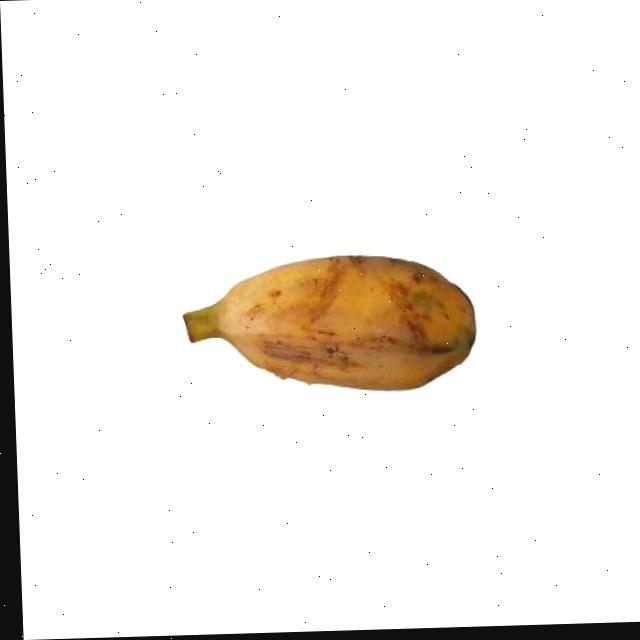banana: (172, 241, 483, 403)
